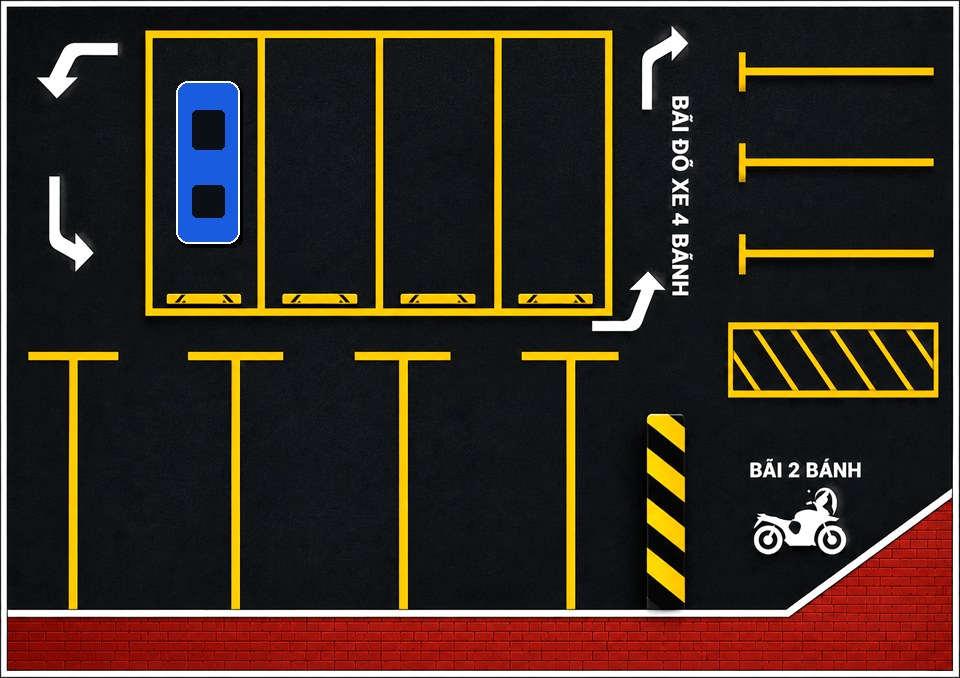empty: (35, 351, 199, 598), (360, 351, 518, 598), (201, 351, 357, 598), (524, 351, 672, 598), (267, 35, 386, 309), (386, 35, 505, 309), (505, 35, 624, 309)
occupied: (148, 35, 267, 309)
